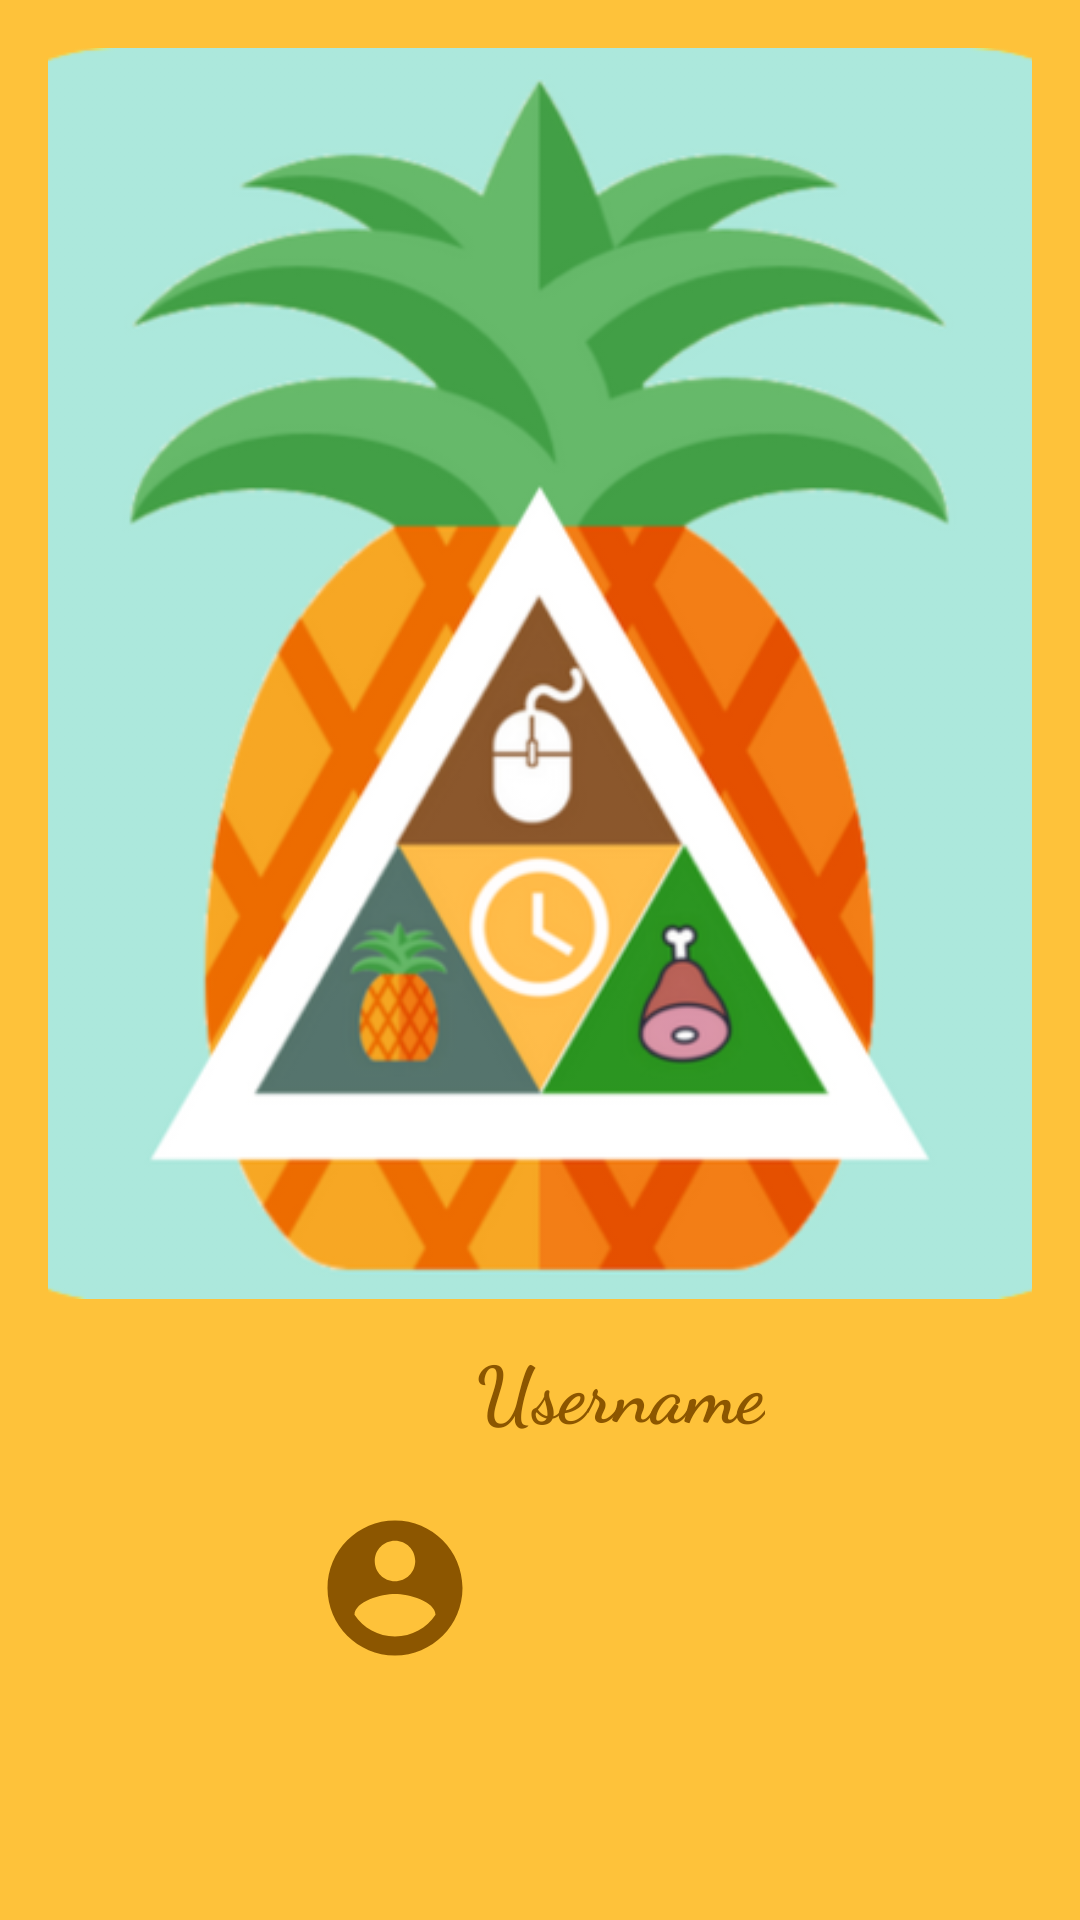

Named icons in this screenshot (1080×1920) and their bounding boxes, (x1, y1, x2, y2):
account brown: (327, 1520, 463, 1656)
